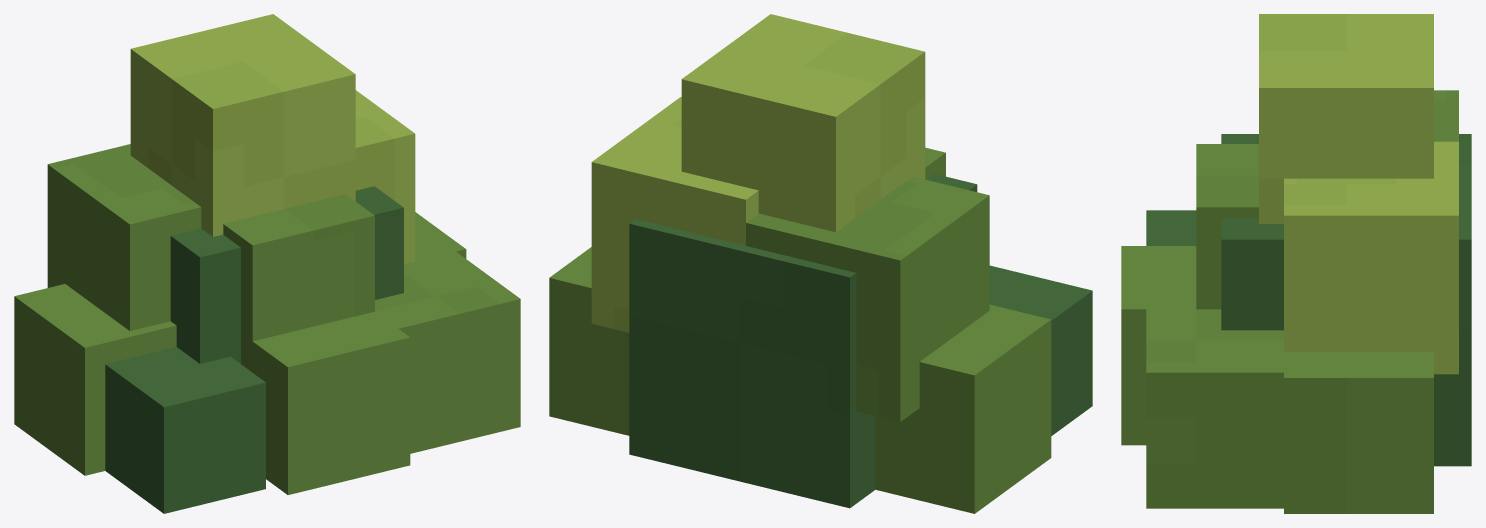
Rendered from SM_VMF_Nature_Bush.fbx.
The picture shows the model from 3 angles, left to right: view 1: azimuth 30°, elevation 25°; view 2: azimuth 150°, elevation 25°; view 3: azimuth 270°, elevation 25°; orthographic projection. The views are drawn at different scales.
Parts seen in each view (by area): view 1: SM_VMF_Nature_Bush_Geo; view 2: SM_VMF_Nature_Bush_Geo; view 3: SM_VMF_Nature_Bush_Geo.
Part boxes in pixels (x1,y1,x2,y2): SM_VMF_Nature_Bush_Geo: (14, 14, 520, 513); SM_VMF_Nature_Bush_Geo: (549, 14, 1092, 513); SM_VMF_Nature_Bush_Geo: (1121, 14, 1471, 513).
Bounding box in the file's own units: 76 × 64 × 56.
1 material, 1 textured.
